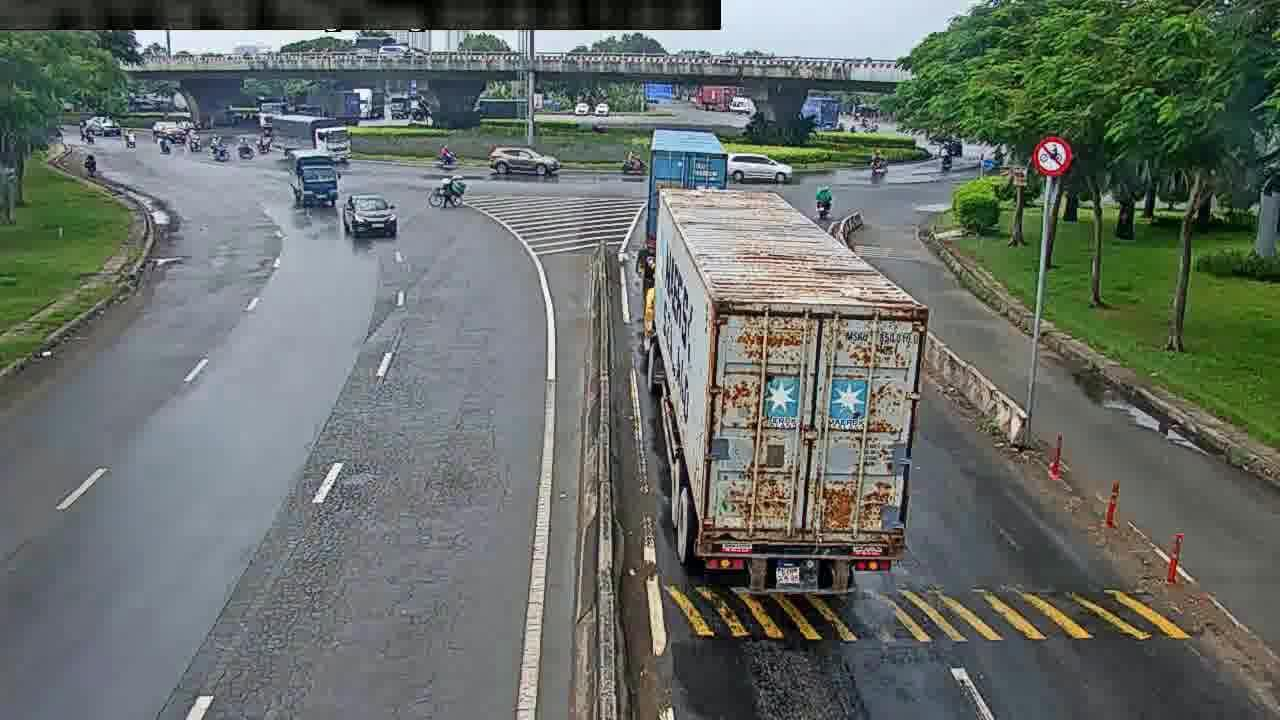8: (640, 173, 929, 607), (646, 123, 734, 230), (269, 112, 352, 162), (283, 147, 344, 211)
container: (719, 149, 806, 190), (486, 143, 565, 184), (340, 192, 405, 240)
motorbike: (812, 184, 846, 219), (427, 178, 469, 205)
